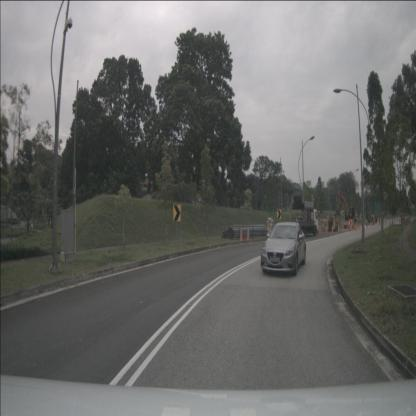movable_object-trafficcone: (239, 228, 243, 242), (246, 228, 250, 240), (331, 224, 334, 233), (325, 226, 328, 234), (337, 225, 340, 233), (319, 225, 321, 234), (342, 224, 344, 233), (346, 223, 348, 232)
vehicle-car: (261, 222, 306, 276)
vehicle-truck: (291, 201, 318, 237)
